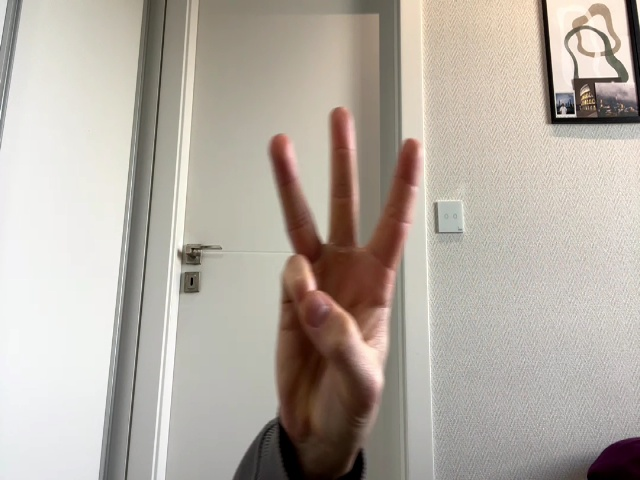W: (269, 107, 422, 436)
